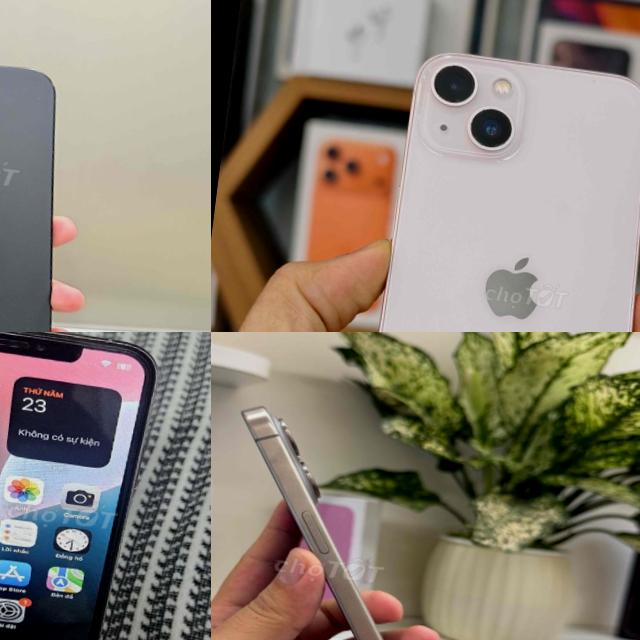gen_12_13: (347, 37, 640, 332)
gen_15: (211, 392, 484, 640), (0, 36, 106, 332)
gen_x_xs: (0, 332, 169, 640)
